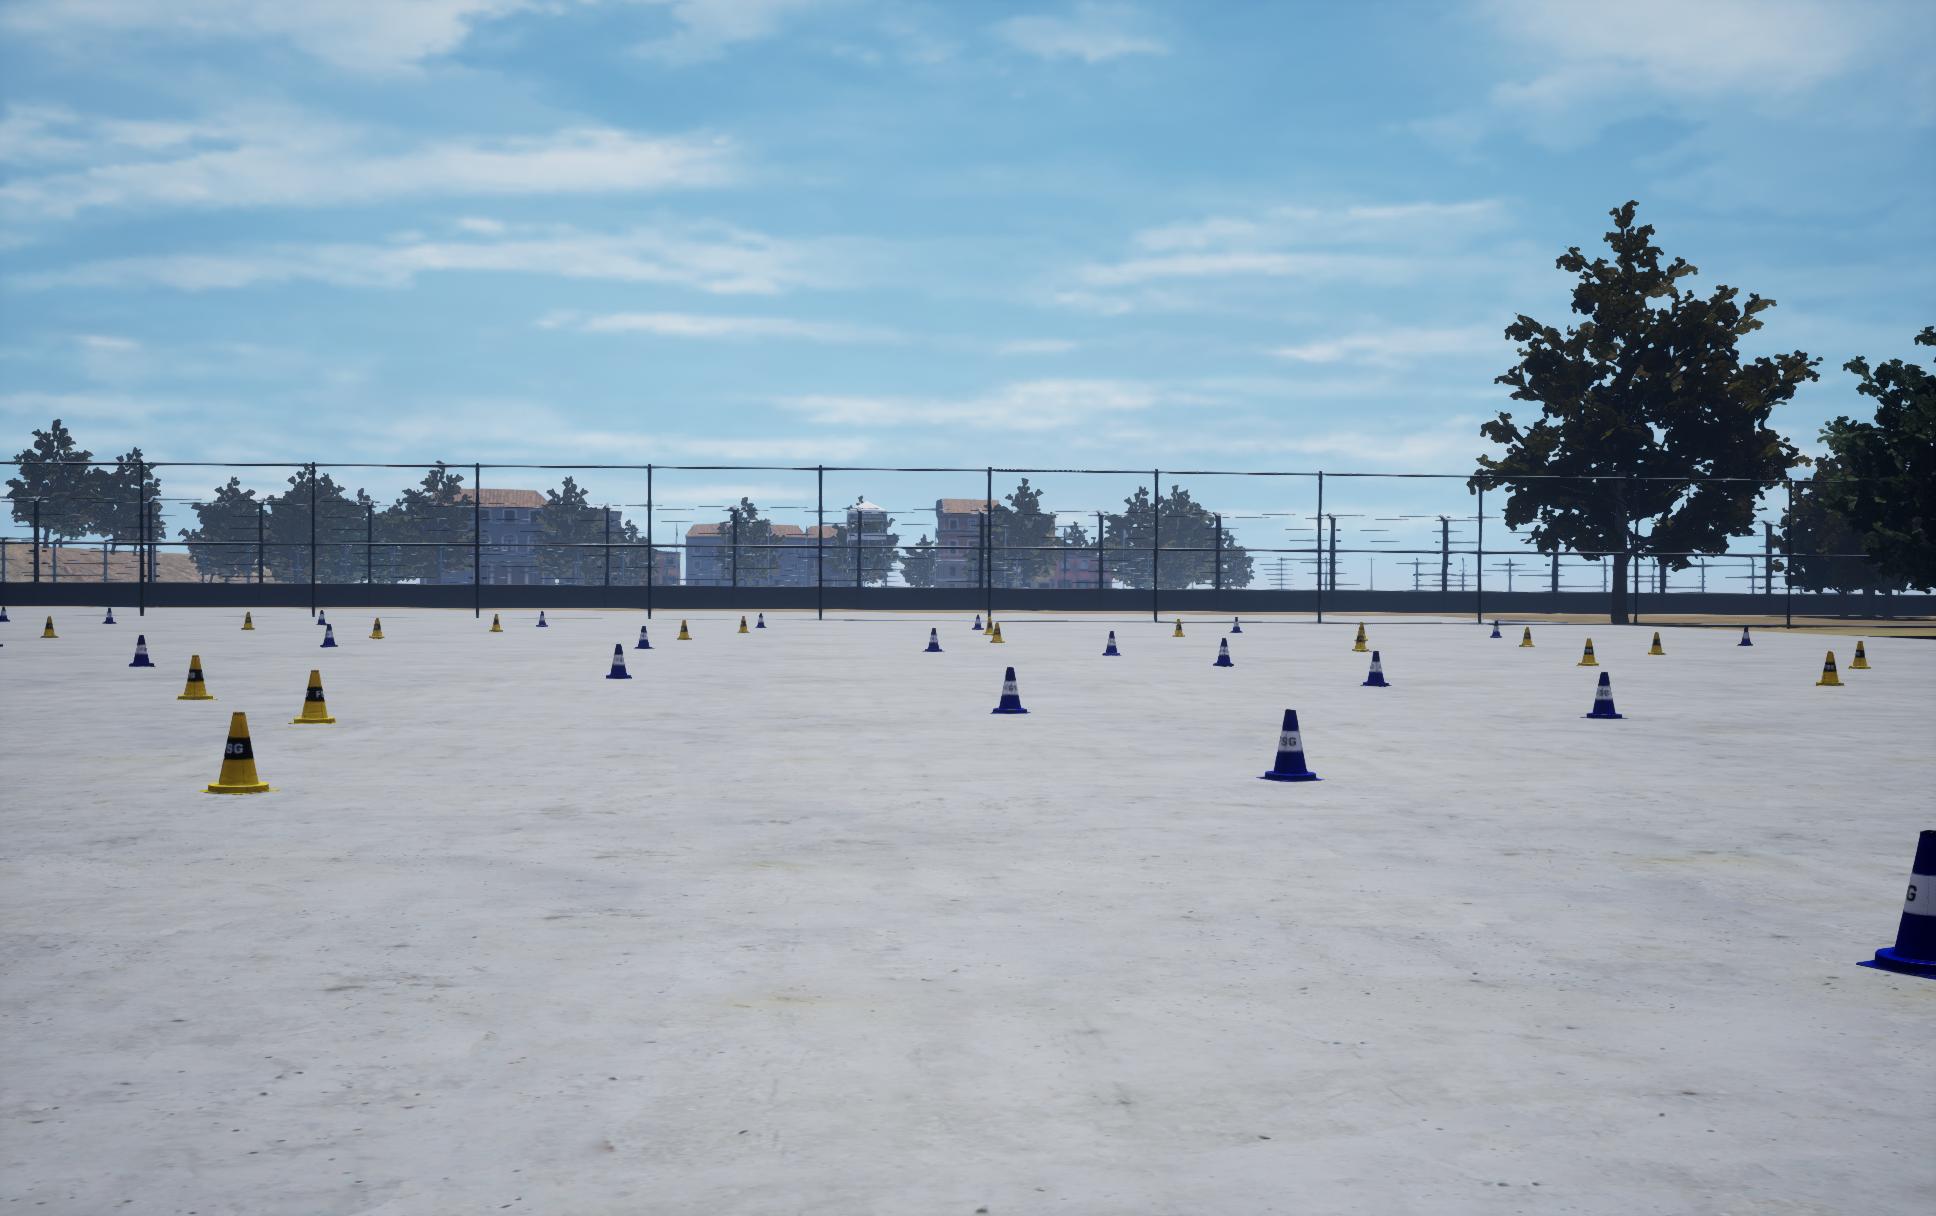blue: (198, 712, 279, 794), (289, 670, 338, 723), (177, 656, 217, 699), (1814, 651, 1844, 685), (1576, 637, 1598, 665), (1848, 642, 1870, 668), (1646, 632, 1666, 654), (1352, 629, 1371, 651), (41, 616, 57, 637), (368, 618, 384, 637), (1519, 628, 1534, 646), (990, 622, 1004, 642), (677, 621, 691, 639), (1355, 622, 1367, 640)
yellow: (1856, 829, 1935, 979), (1257, 709, 1324, 780), (1580, 672, 1626, 719), (990, 667, 1030, 713), (1360, 651, 1391, 686), (129, 635, 155, 665), (607, 644, 630, 678), (1213, 637, 1233, 665), (922, 628, 944, 651), (1102, 630, 1121, 656), (635, 626, 654, 649), (319, 623, 338, 647), (1737, 628, 1752, 644)
